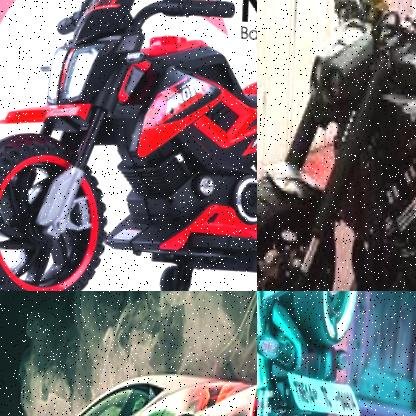bike: (257, 0, 416, 291), (257, 291, 394, 416)
car: (0, 354, 257, 416)
